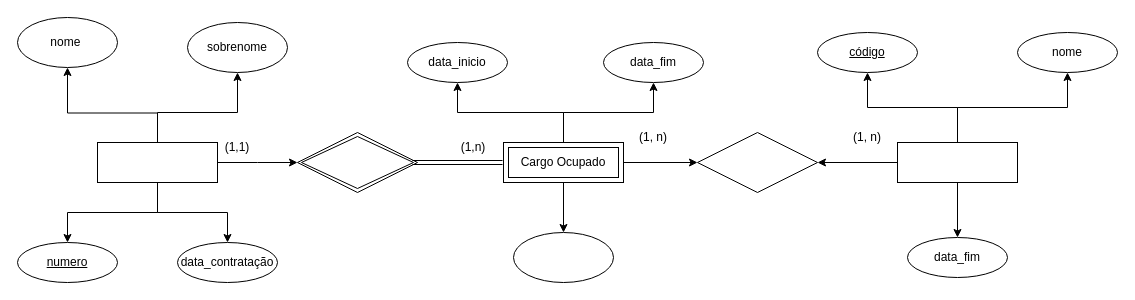
The diagram is 1135 pixels wide and 300 high, and some of its shapes have lost their labels. Here are the shapes that lost their labels. From the top down, the centre of each, then its label:
At point 157,162: "funcionário".
At point 357,162: "trabalha em".
At point 757,162: "pertence a".
At point 957,162: "Departamento".
At point 563,257: "nome do cargo".
